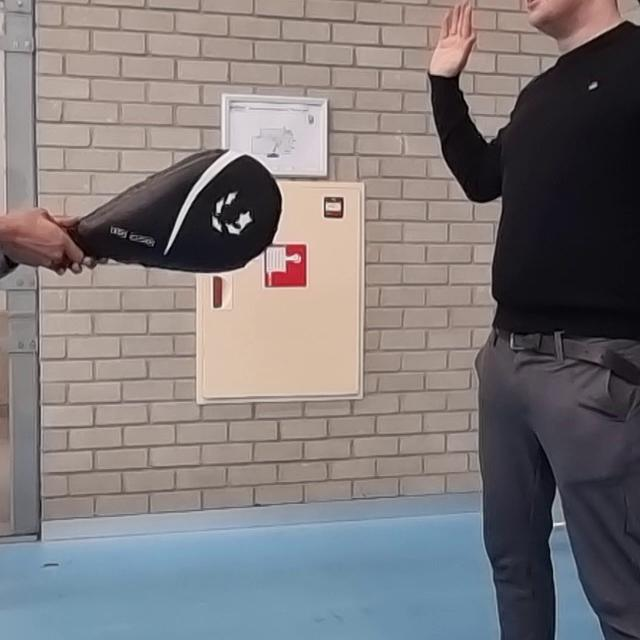paddle: (67, 147, 282, 273)
